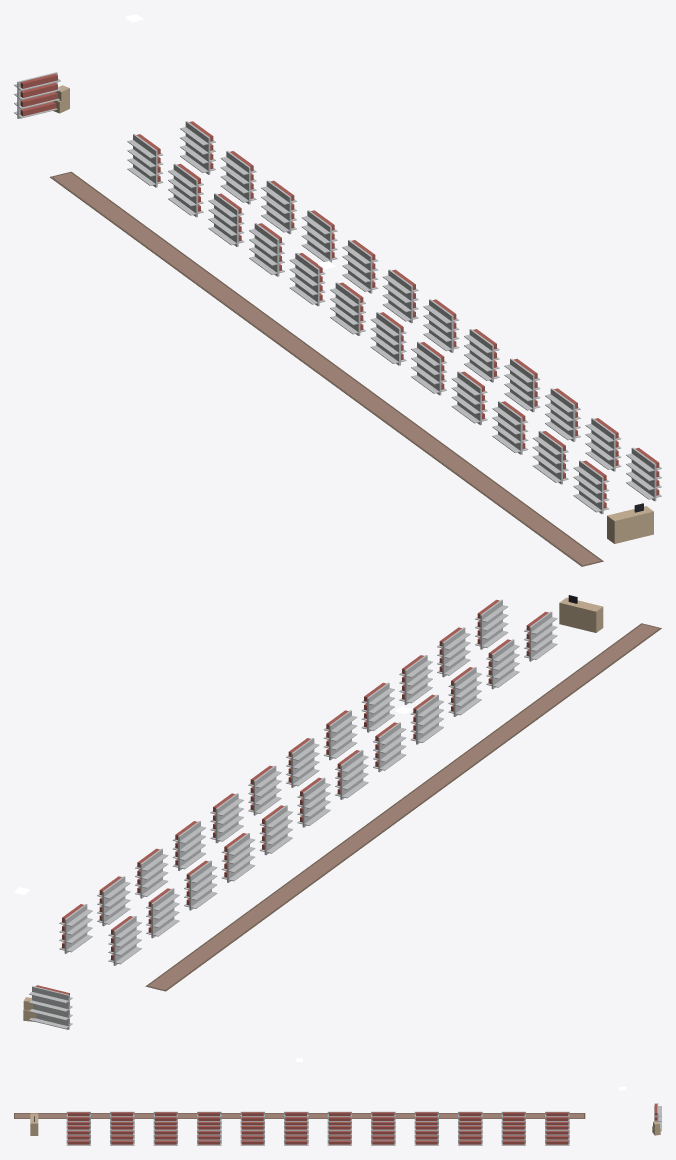
Rendered from fine-s0.glb.
3 views of the same model, one above another, from view 1: azimuth 30°, elevation 25°; view 2: azimuth 150°, elevation 25°; view 3: azimuth 270°, elevation 25° (orthographic). The views are drawn at different scales.
Visible parts, largest first — view 1: soft-s0, shelving.000, shop-counter.000, shelf.012, shelf.023, shelf.005, shelf.014, shelf.002, shelf.018, shelf.011, shelf.013, shelf.008 (+15 smaller); view 2: soft-s0, shelving.000, shop-counter.000, shelf.001, shelf.006, shelf.017, shelf.010, shelf.011, shelf.022, shelf.013, shelf.018, shelf.004 (+15 smaller); view 3: soft-s0, shelf.012, shelf.013, shelf.014, shelf.015, shelf.016, shelf.017, shelf.018, shelf.019, shelf.020, shelf.021, shelf.022 (+15 smaller).
Boxes of the visible parts, x1,y1,x2,y2 form: soft-s0: [50, 171, 603, 566]; shelving.000: [14, 72, 60, 118]; shop-counter.000: [607, 503, 653, 543]; shelf.012: [180, 121, 215, 174]; shelf.023: [626, 447, 661, 501]; shelf.005: [330, 282, 365, 335]; shelf.014: [261, 180, 296, 234]; shelf.002: [208, 193, 244, 246]; shelf.018: [423, 299, 459, 352]; shelf.011: [573, 460, 609, 513]; shelf.013: [220, 151, 256, 204]; shelf.008: [451, 371, 487, 425]; soft-s0: [145, 623, 661, 991]; shelving.000: [29, 985, 72, 1029]; shop-counter.000: [559, 595, 603, 632]; shelf.001: [146, 888, 179, 938]; shelf.006: [335, 750, 368, 799]; shelf.017: [248, 765, 281, 815]; shelf.010: [486, 639, 519, 689]; shelf.011: [524, 611, 557, 661]; shelf.022: [437, 627, 470, 677]; shelf.013: [97, 876, 130, 926]; shelf.018: [286, 738, 319, 787]; shelf.004: [259, 805, 292, 855]; soft-s0: [14, 1113, 585, 1118]; shelf.012: [545, 1125, 569, 1145]; shelf.013: [501, 1125, 525, 1145]; shelf.014: [458, 1125, 482, 1145]; shelf.015: [414, 1125, 438, 1145]; shelf.016: [371, 1125, 395, 1145]; shelf.017: [327, 1125, 351, 1145]; shelf.018: [284, 1125, 308, 1145]; shelf.019: [240, 1125, 264, 1145]; shelf.020: [197, 1125, 221, 1145]; shelf.021: [153, 1125, 177, 1145]; shelf.022: [110, 1125, 134, 1145].
Size of the model in its own units: 5.88 by 4.57 by 47.66.
